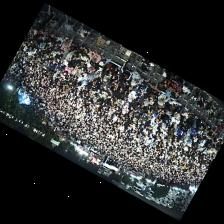person: (120, 56, 132, 80), (172, 107, 184, 126), (148, 84, 160, 99), (153, 97, 165, 112), (162, 111, 172, 128), (131, 71, 144, 84), (89, 50, 101, 64), (166, 98, 180, 110), (110, 70, 120, 85), (210, 132, 222, 144), (77, 45, 89, 57), (106, 62, 117, 75), (65, 50, 74, 65), (158, 93, 169, 105), (181, 109, 193, 120), (144, 92, 154, 105), (177, 126, 185, 142), (127, 79, 138, 90), (137, 86, 148, 97), (138, 79, 148, 91), (88, 62, 103, 70), (118, 79, 128, 91), (135, 102, 144, 115), (128, 88, 137, 101), (191, 120, 197, 139), (196, 118, 205, 130), (80, 55, 90, 65), (55, 35, 64, 46), (46, 33, 57, 42), (75, 59, 86, 68), (58, 45, 70, 53), (92, 76, 102, 85), (155, 112, 163, 123), (64, 66, 73, 75), (63, 37, 73, 45), (113, 90, 121, 100), (86, 72, 94, 82), (198, 139, 206, 149), (74, 68, 83, 76), (100, 57, 109, 65), (94, 68, 102, 77), (123, 102, 129, 113), (208, 128, 214, 139), (140, 95, 145, 108), (166, 71, 174, 79), (104, 74, 111, 82), (186, 128, 191, 139), (72, 55, 81, 59)
